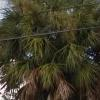Palm tree: (15, 5, 92, 93)
